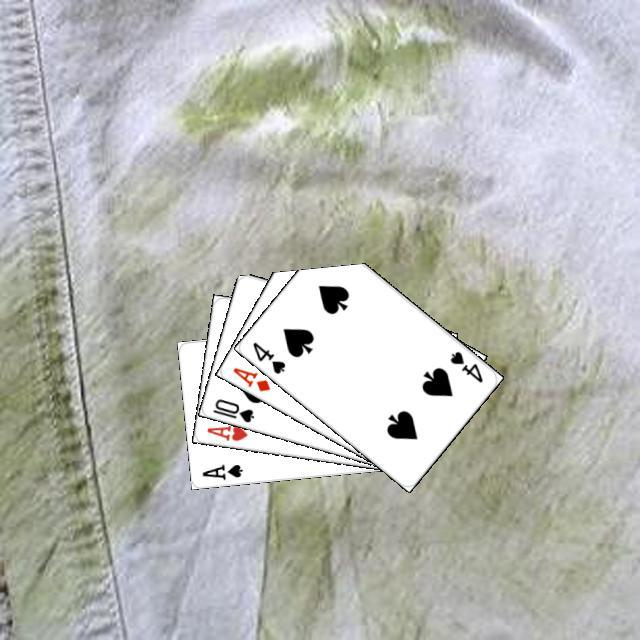10s: (208, 394, 256, 424)
4s: (445, 346, 485, 385), (248, 337, 287, 376)
Ad: (228, 362, 272, 393)
Ah: (202, 420, 249, 443)
As: (197, 459, 244, 481)
